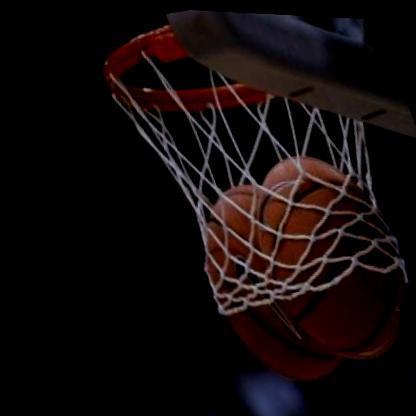basketball: (220, 133, 416, 376), (161, 166, 341, 401)
